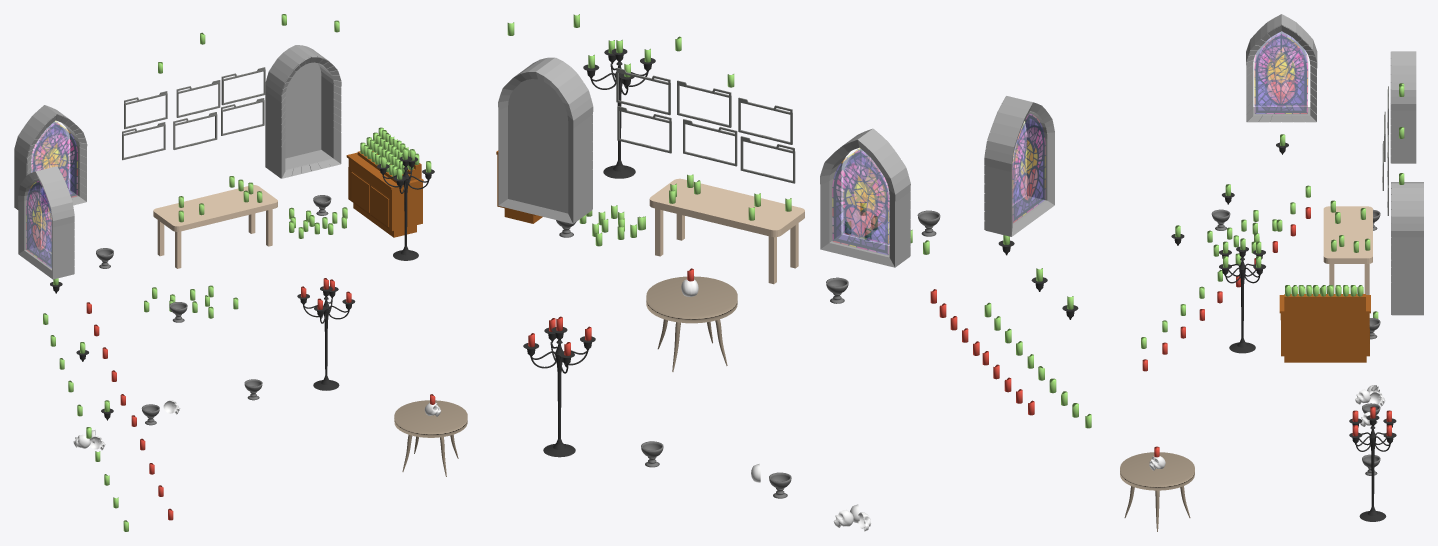
Rendered from things9.glb.
The picture shows the model from 3 angles, left to right: view 1: azimuth 30°, elevation 25°; view 2: azimuth 150°, elevation 25°; view 3: azimuth 270°, elevation 25°; orthographic projection. The views are drawn at different scales.
Parts seen in each view (by area): view 1: WindowRock.003, WindowRock.001, Cube, WindowRock.002, DesktopBase, TableBase, WindowCrystal01.002, WindowCrystal01.003, WindowCrystal01.004, CandelabraBase.001, CandelabraBase; view 2: WindowRock.003, WindowRock.001, WindowRock.002, WindowCrystal01.004, DesktopBase, WindowCrystal01.002, TableBase, WindowCrystal01.003, WindowCrystal01.001, CandelabraBase; view 3: Cube, WindowRock.003, WindowCrystal01.001, WindowCrystal01.003, WindowRock.001, WindowRock.002, DesktopBase, TableBase, CandelabraBase, CandelabraBase.001.
Boxes of the visible parts, x1,y1,x2,y2 form: WindowRock.003: (265, 45, 341, 178); WindowRock.001: (18, 166, 74, 279); Cube: (346, 151, 423, 237); WindowRock.002: (14, 105, 87, 213); DesktopBase: (153, 185, 277, 231); TableBase: (394, 400, 467, 437); WindowCrystal01.002: (32, 123, 77, 204); WindowCrystal01.003: (26, 181, 51, 268); WindowCrystal01.004: (31, 121, 68, 188); CandelabraBase.001: (393, 167, 418, 260); CandelabraBase: (313, 297, 339, 390); WindowRock.003: (498, 57, 593, 223); WindowRock.001: (984, 96, 1054, 236); WindowRock.002: (820, 128, 910, 267); WindowCrystal01.004: (832, 150, 889, 254); DesktopBase: (649, 178, 804, 237); WindowCrystal01.002: (843, 148, 889, 244); TableBase: (646, 276, 737, 323); WindowCrystal01.003: (1013, 113, 1045, 222); WindowCrystal01.001: (1013, 123, 1026, 204); CandelabraBase: (543, 340, 575, 457); Cube: (1279, 294, 1370, 362); WindowRock.003: (1391, 182, 1423, 315); WindowCrystal01.001: (1254, 34, 1307, 113); WindowCrystal01.003: (1254, 31, 1307, 106); WindowRock.001: (1246, 14, 1317, 122); WindowRock.002: (1390, 51, 1416, 163); DesktopBase: (1323, 206, 1372, 263); TableBase: (1120, 452, 1194, 490); CandelabraBase: (1359, 426, 1386, 521); CandelabraBase.001: (1229, 257, 1255, 353).
Bounding box in the file's own units: 18.49 × 16.95 × 12.32.
Materials: 11 (1 with a texture image).
